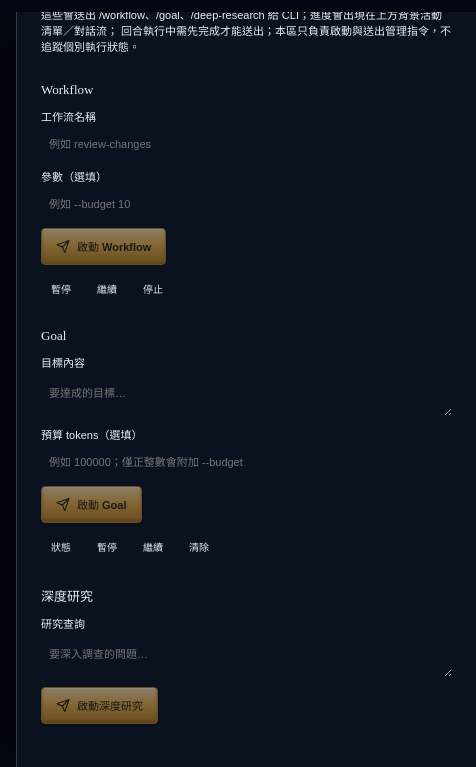
Test: BackgroundTasksPanel › R3 autonomous entries (workflow / goal / deep-research) › shows a local error and keeps the typed fields when launch fails (never the global toast)
(page scrolled)
Step 1. Type "ship it" into the text box labelled "目標內容" → x=246, y=396, box [41, 376, 452, 416]
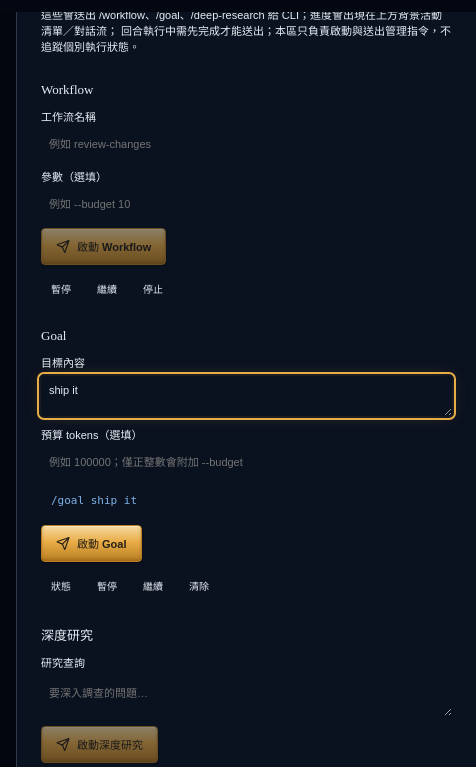
Step 2. Click the button "啟動 Goal" → x=91, y=543, box [41, 525, 142, 562]
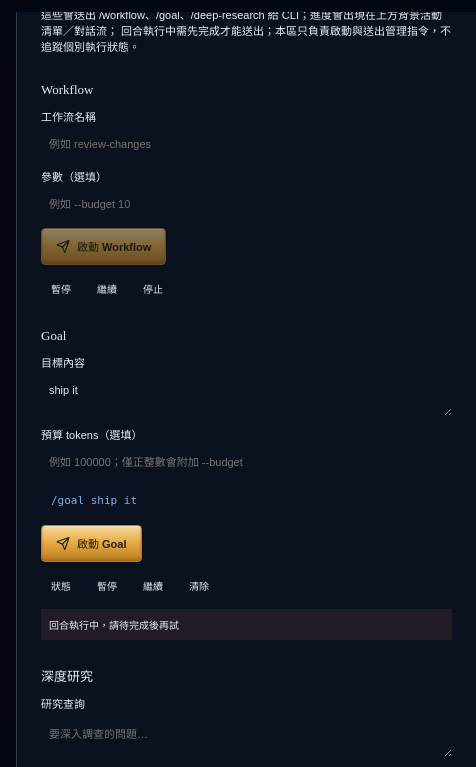
expect the message with test id "bgtasks-goal-error" reads "回合執行中，請待完成後再試": met, box [49, 620, 179, 631]
